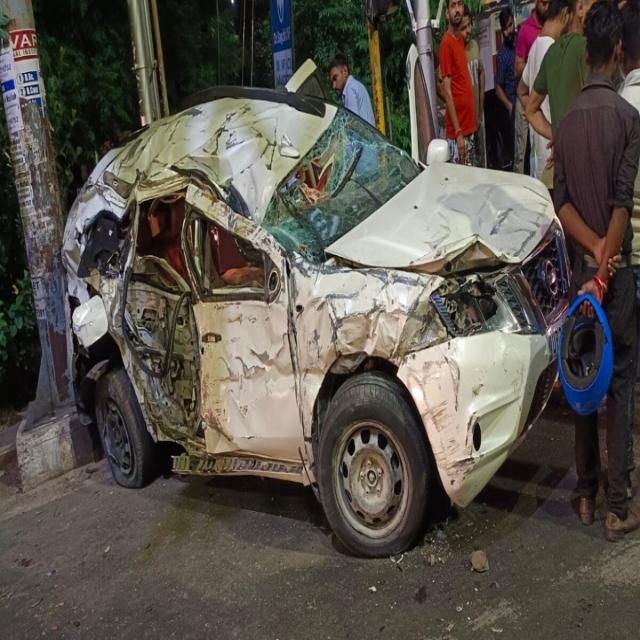accident: (62, 69, 570, 556)
